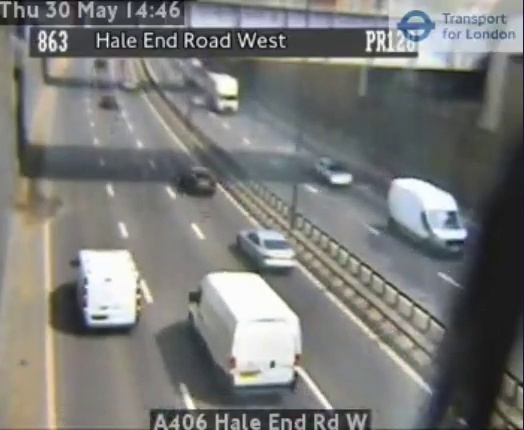car: (237, 228, 295, 268), (179, 166, 216, 195)
van: (192, 271, 300, 394), (77, 250, 140, 327)
